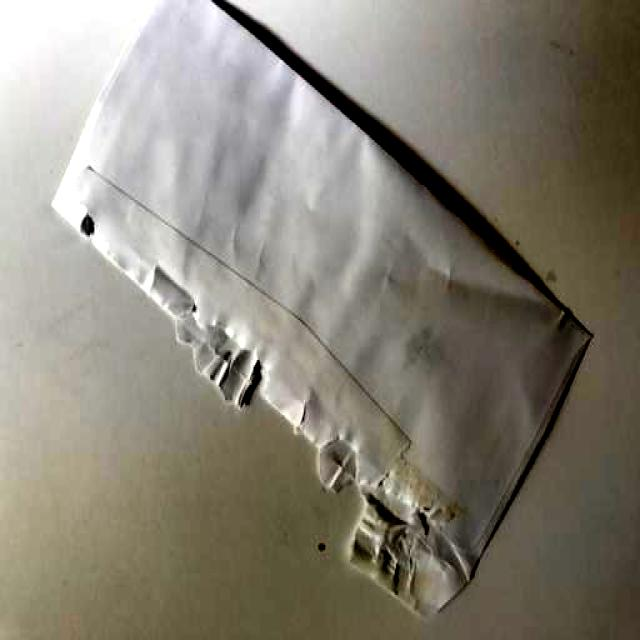Paper: (50, 0, 597, 627)
